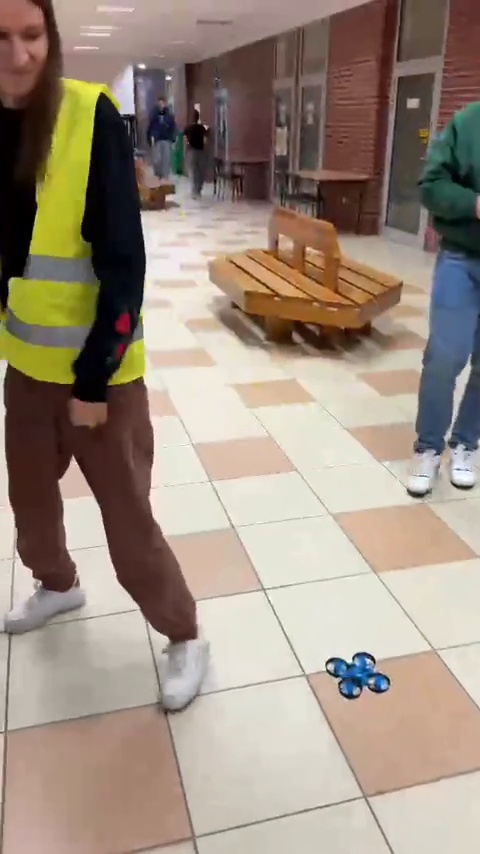drone: (316, 652, 390, 701)
no vest: (392, 81, 480, 495), (185, 110, 226, 212), (146, 96, 177, 193)
vest: (0, 3, 198, 710)
